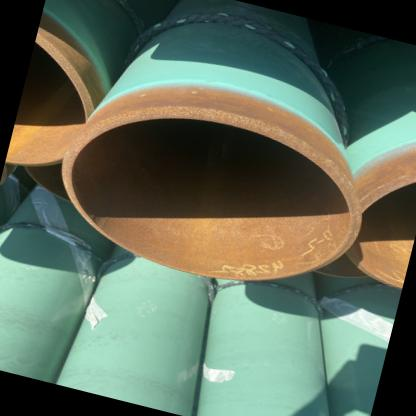clean: (214, 112, 286, 154)
